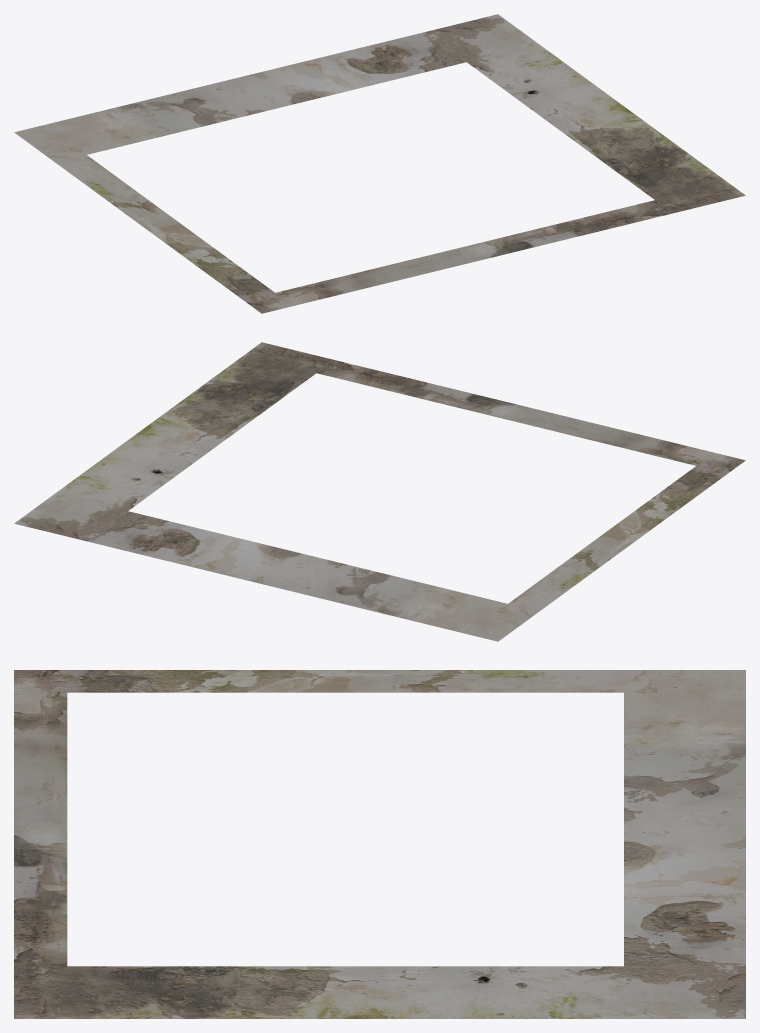
File: A2_H3_Ceiling.FBX
The picture shows the model from 3 angles, top to bottom: view 1: azimuth 30°, elevation 25°; view 2: azimuth 150°, elevation 25°; view 3: azimuth 270°, elevation 25°; orthographic projection. The views are drawn at different scales.
Parts seen in each view (by area): view 1: A2_H3_Ceiling; view 2: A2_H3_Ceiling; view 3: A2_H3_Ceiling.
Part boxes in pixels (bbox=[...]): A2_H3_Ceiling: bbox=[14, 14, 745, 313]; A2_H3_Ceiling: bbox=[14, 342, 745, 641]; A2_H3_Ceiling: bbox=[14, 670, 745, 1018].
Size of the model in its own units: 1340 by 3.05e-05 by 1188.
